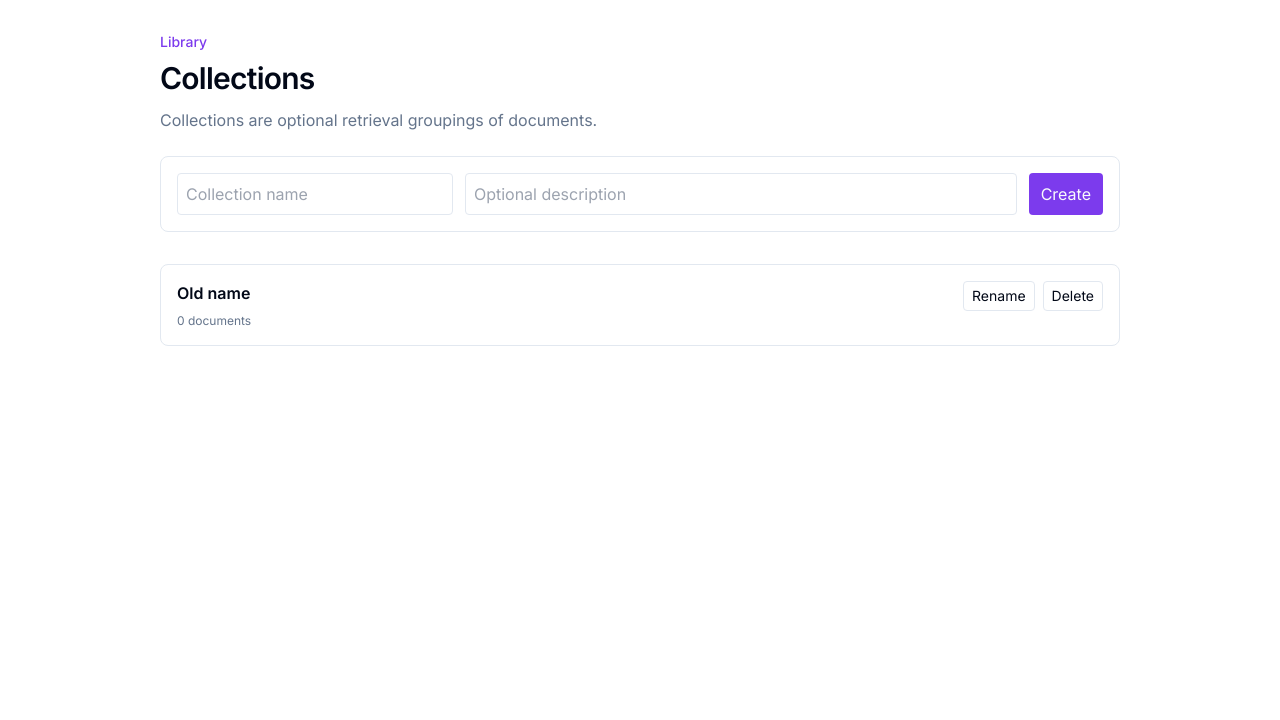
Test: document-library workspace › renames a collection through the in-product dialog
The image size is (1280, 720).
Click the button "Rename" at (999, 296), box [963,281,1034,311]
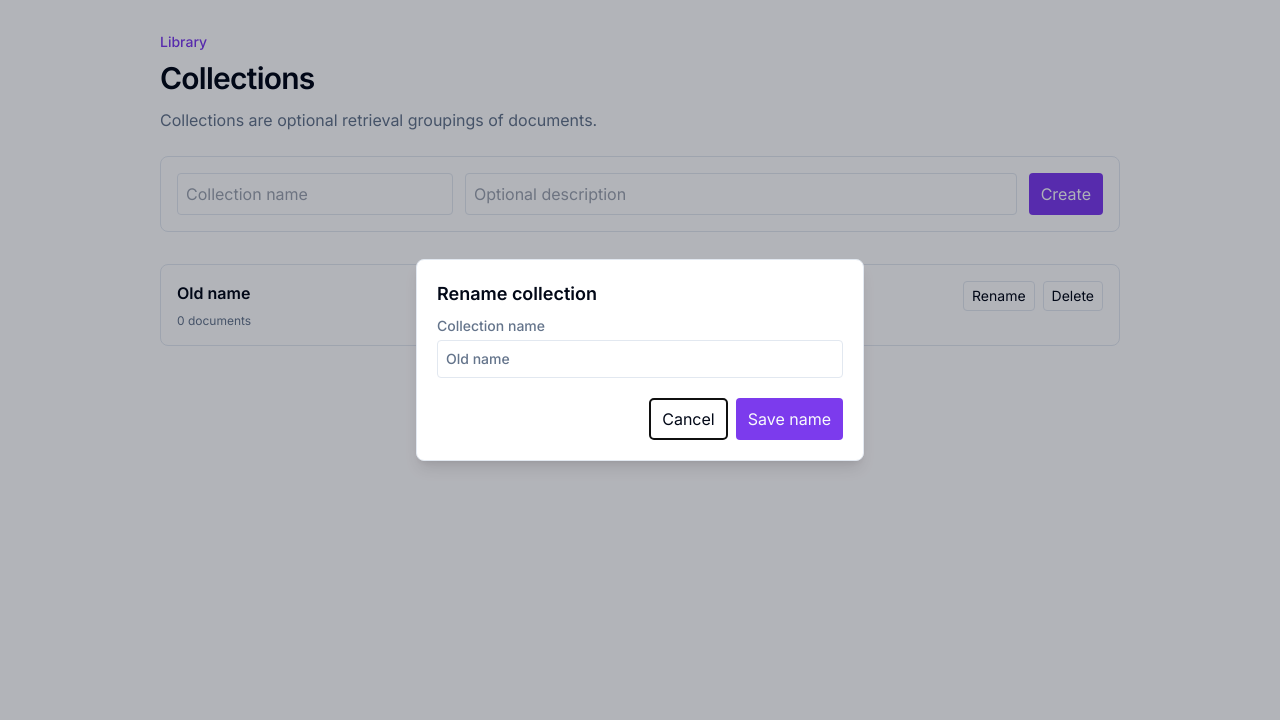
Replace the text in the field named "New collection name" with "New name" at (640, 359), box [437,340,843,378]
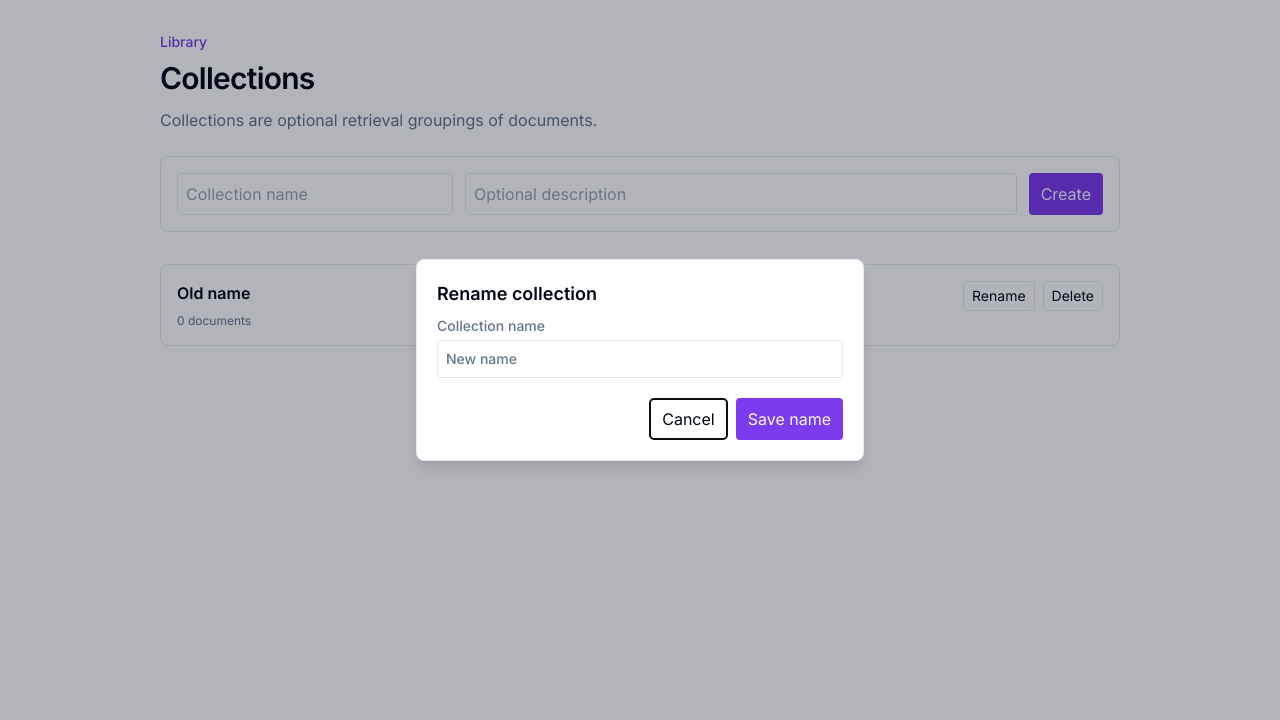
Click the button "Save name" at (789, 419), box [736,398,843,440]
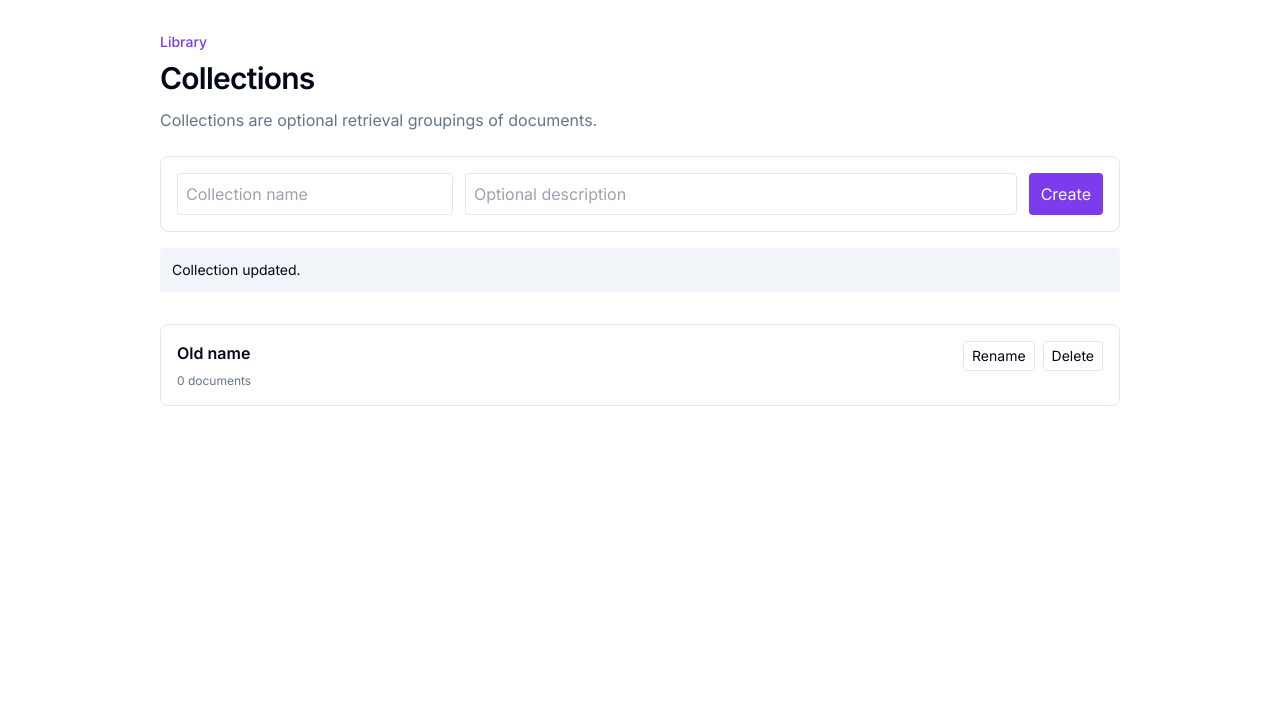
Expected: the text "Collection updated." is shown, [160,248,1120,292]
Expected: the heading "Rename collection" is gone
